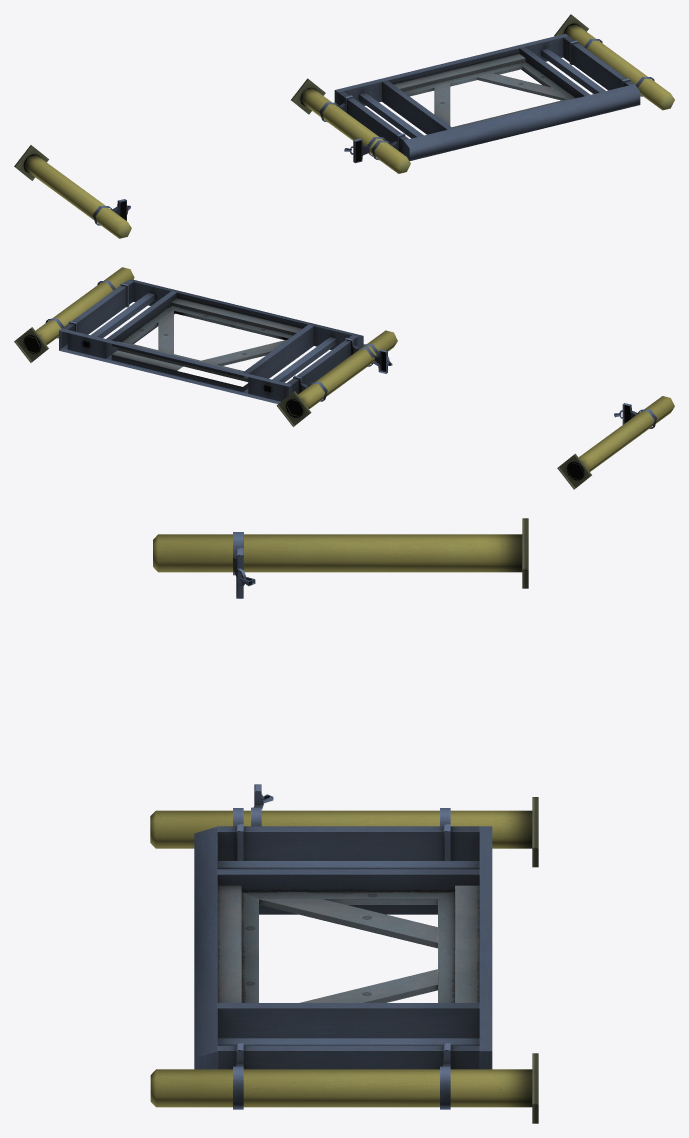
The model's file is nt_2020_street_gate_02_LOD1.obj.
The picture shows the model from 3 angles, top to bottom: view 1: azimuth 30°, elevation 25°; view 2: azimuth 150°, elevation 25°; view 3: azimuth 270°, elevation 25°; orthographic projection. The views are drawn at different scales.
Parts seen in each view (by area): view 1: mtl_nt_2020_street_gate_01; view 2: mtl_nt_2020_street_gate_01; view 3: mtl_nt_2020_street_gate_01.
Boxes of the visible parts, x1=… form: mtl_nt_2020_street_gate_01: x1=14, y1=14, x2=674, y2=238; mtl_nt_2020_street_gate_01: x1=14, y1=267, x2=674, y2=489; mtl_nt_2020_street_gate_01: x1=150, y1=518, x2=538, y2=1123.
Bounding box in the file's own units: 364 × 23.44 × 106.
